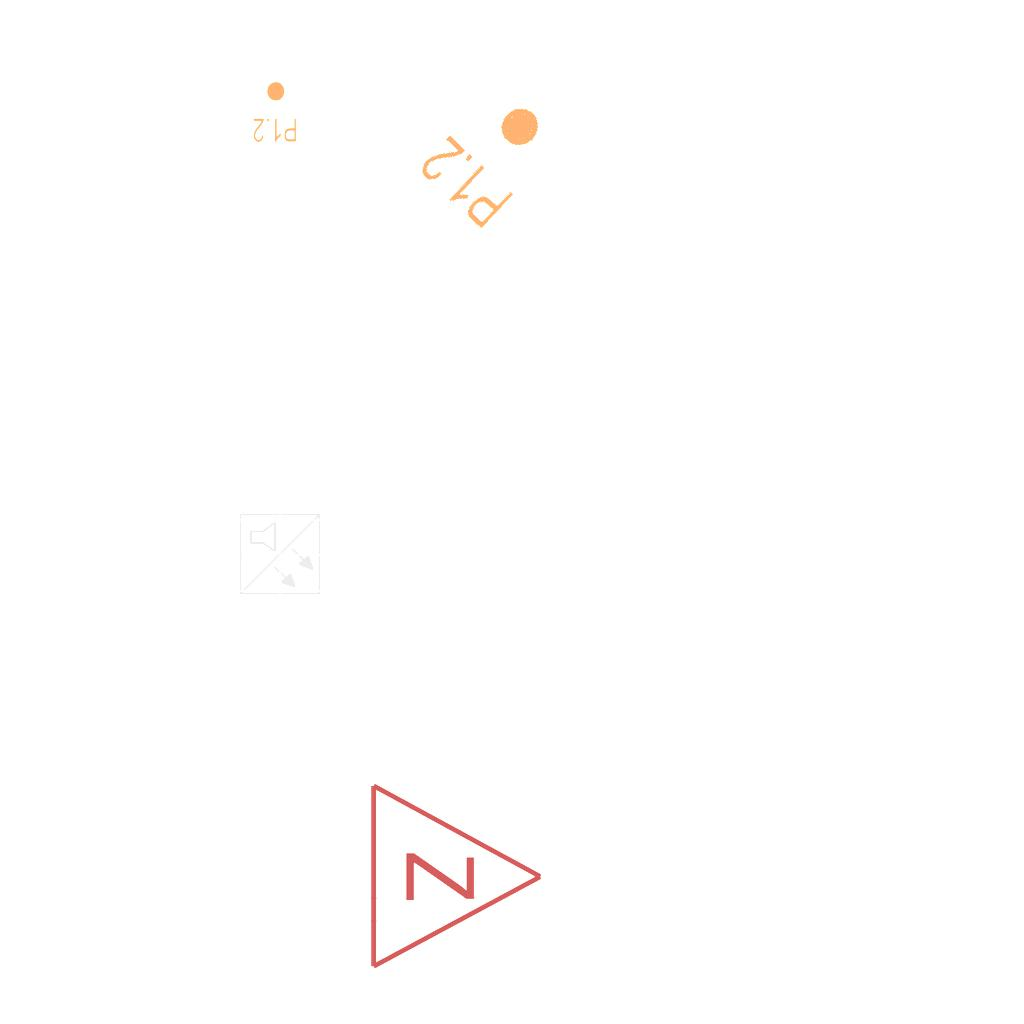Downlight_LED_Einbauleuchten_Flur: (412, 77, 569, 235), (252, 80, 298, 144)
Zimmersignalleuchte: (356, 776, 556, 972)
